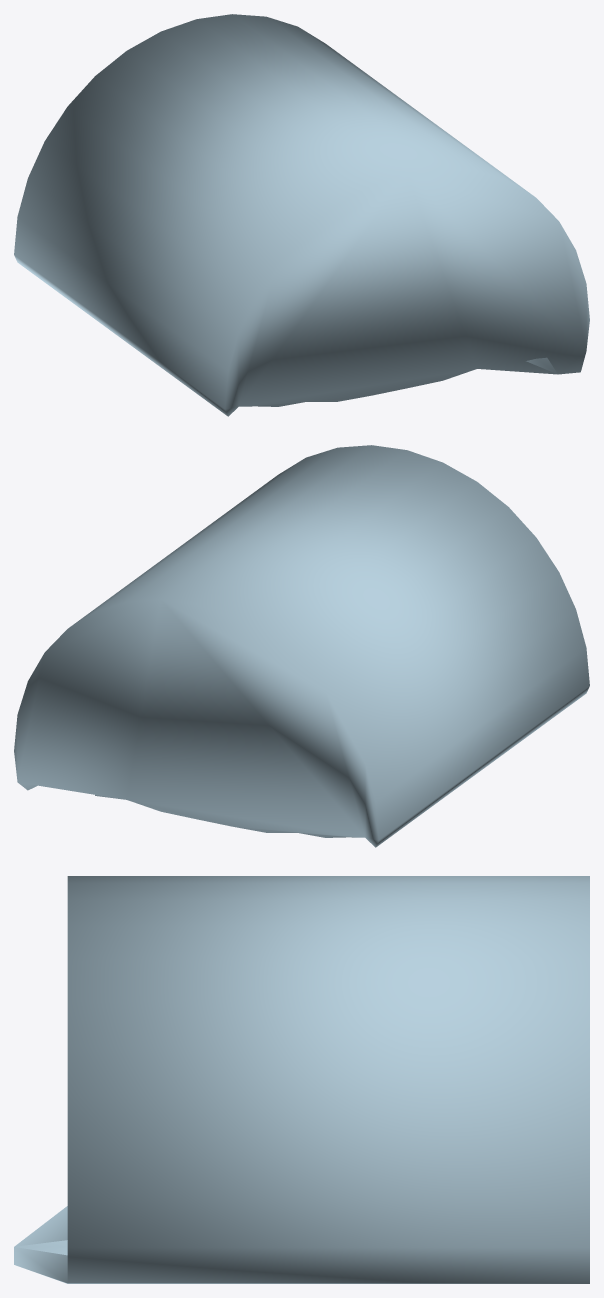
The model's file is hangar.glb.
The picture shows the model from 3 angles, top to bottom: view 1: azimuth 30°, elevation 25°; view 2: azimuth 150°, elevation 25°; view 3: azimuth 270°, elevation 25°; orthographic projection. The views are drawn at different scales.
Parts seen in each view (by area): view 1: Цилиндр; view 2: Цилиндр; view 3: Цилиндр.
Part boxes in pixels (bbox=[...]): Цилиндр: bbox=[14, 14, 589, 416]; Цилиндр: bbox=[14, 445, 589, 847]; Цилиндр: bbox=[14, 876, 589, 1283].
Size of the model in its own units: 10 by 5.95 by 11.02.
